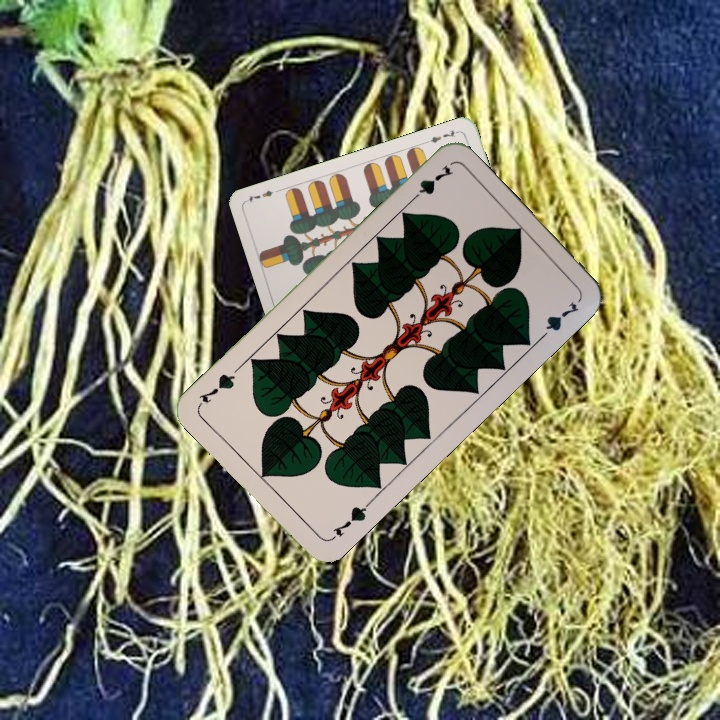E7: (422, 126, 462, 146)
G7: (405, 161, 456, 206), (326, 498, 373, 543)
